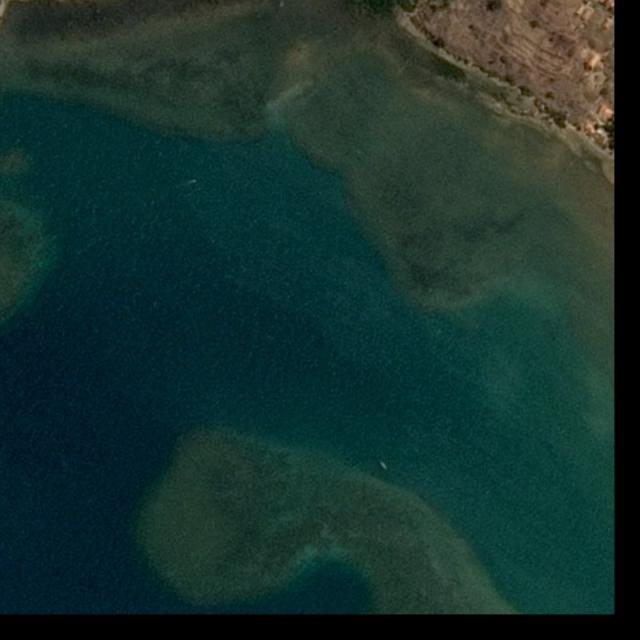ship: (378, 460, 388, 472), (193, 179, 199, 184)
